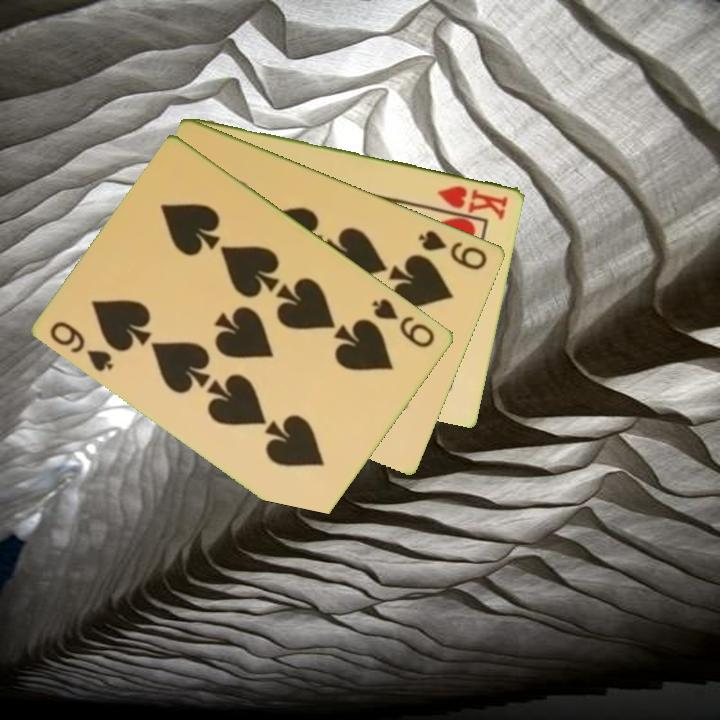9s: (47, 317, 117, 375), (369, 294, 439, 351), (415, 226, 491, 273)
Kh: (434, 181, 511, 222)
